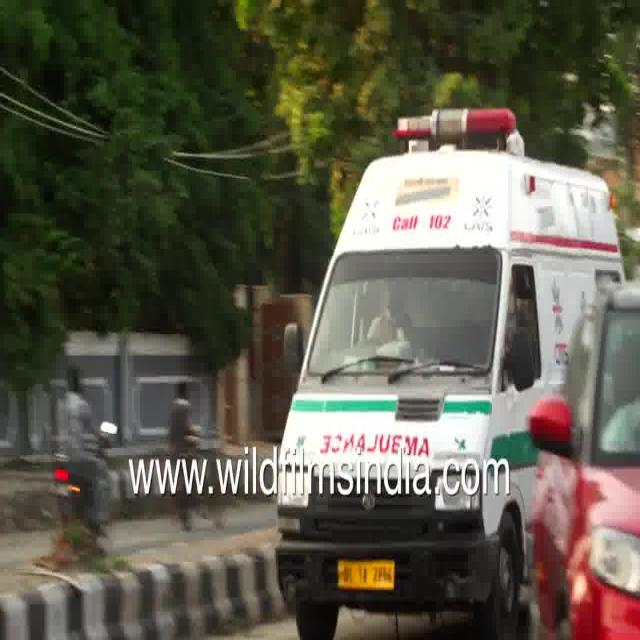ambulance: (269, 79, 570, 634)
